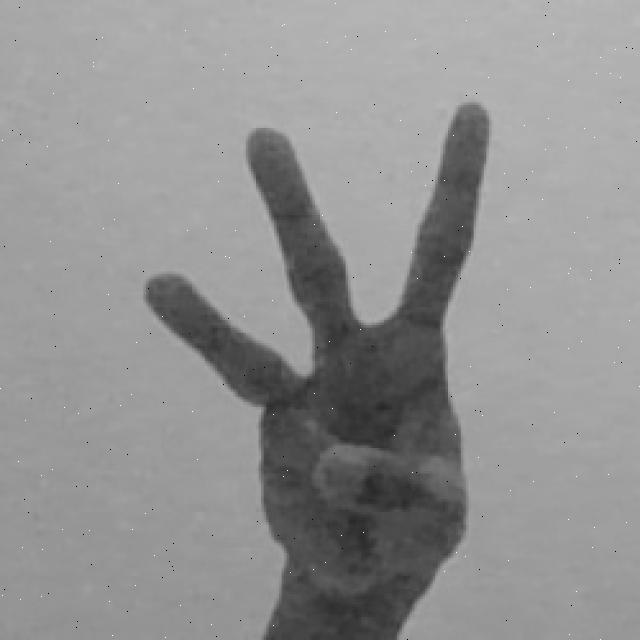W: (138, 87, 502, 640)
